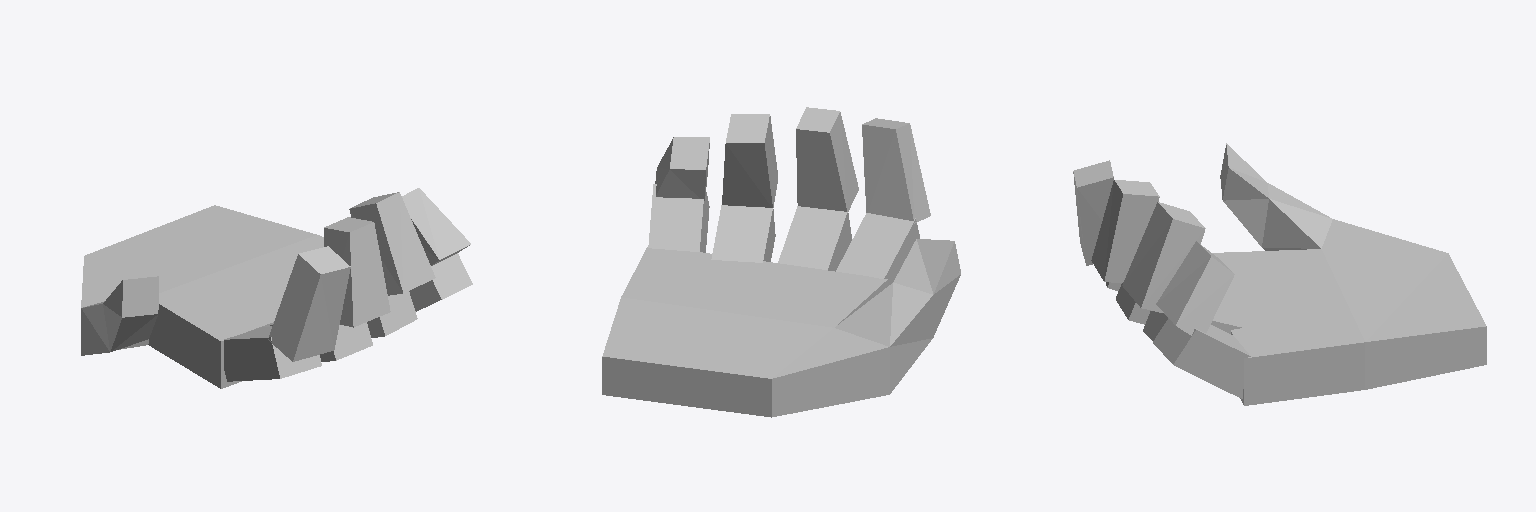
Rendered from bighand_left.obj.
The picture shows the model from 3 angles: view 1: azimuth 30°, elevation 25°; view 2: azimuth 150°, elevation 25°; view 3: azimuth 270°, elevation 25°; orthographic projection.
Parts seen in each view (by area): view 1: 立方体.006; view 2: 立方体.006; view 3: 立方体.006.
Boxes of the visible parts, <box> form: 立方体.006: <box>81,188,472,388</box>; 立方体.006: <box>602,107,960,417</box>; 立方体.006: <box>1073,143,1486,405</box>.
Size of the model in its own units: 2.98 by 1.45 by 3.27.